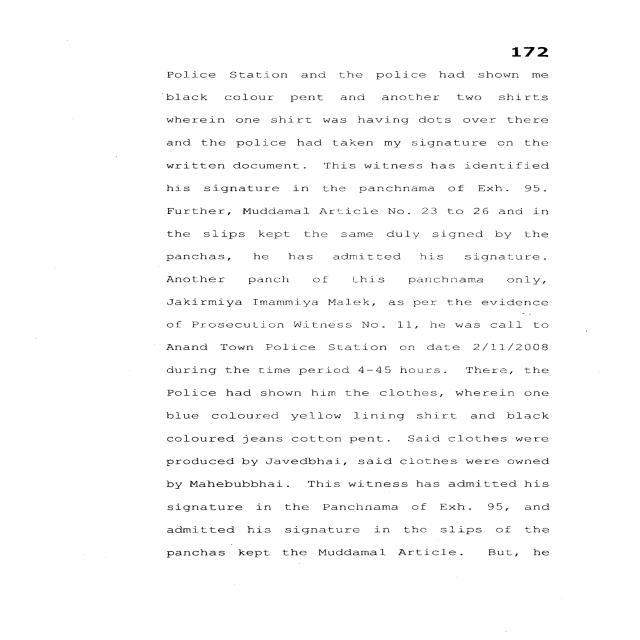page-number: (428, 0, 640, 61)
